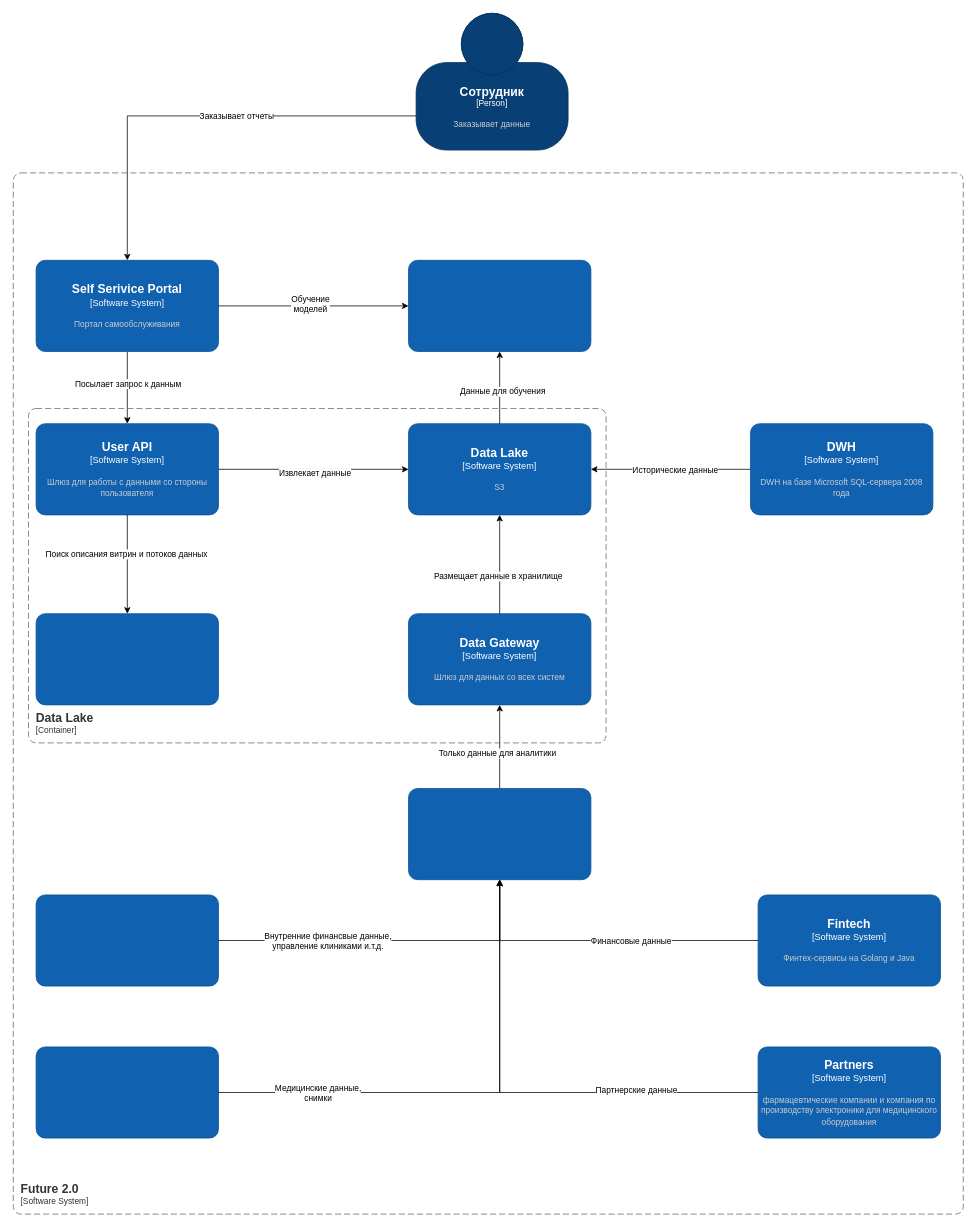
Image size: 977x1227. Some labels were removed from this diagram. Each missing label, with the centre of its shape:
AI [Software System] ИИ-сервисы на Python: [499,306]
Client UI [Software System] Клиентский интерфейс оператора: [126,1092]
Data Catalog [Software System] Метаданные: [126,659]
Kafka [Software System] Брокер сообщений: [499,834]
Внутренние сервисы [Software System] Внутренние сервисы: [126,940]
